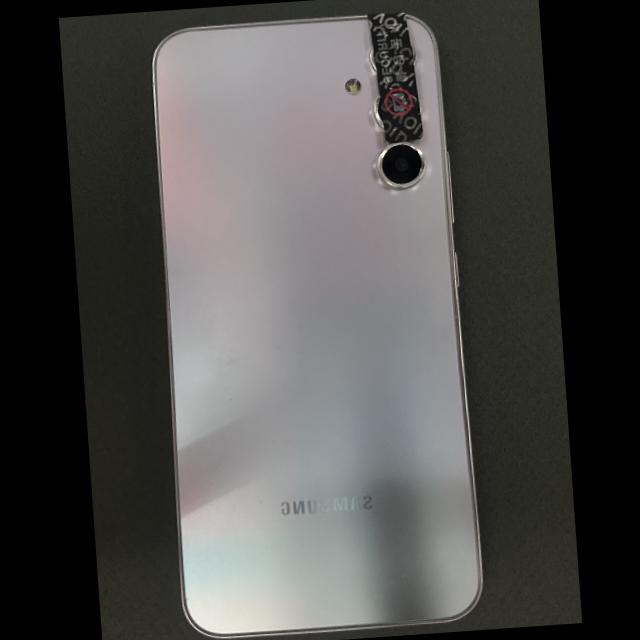lens: (377, 142, 424, 189), (373, 97, 383, 129), (409, 41, 415, 65)
phone: (151, 12, 483, 639)
sticker: (367, 11, 423, 143)
